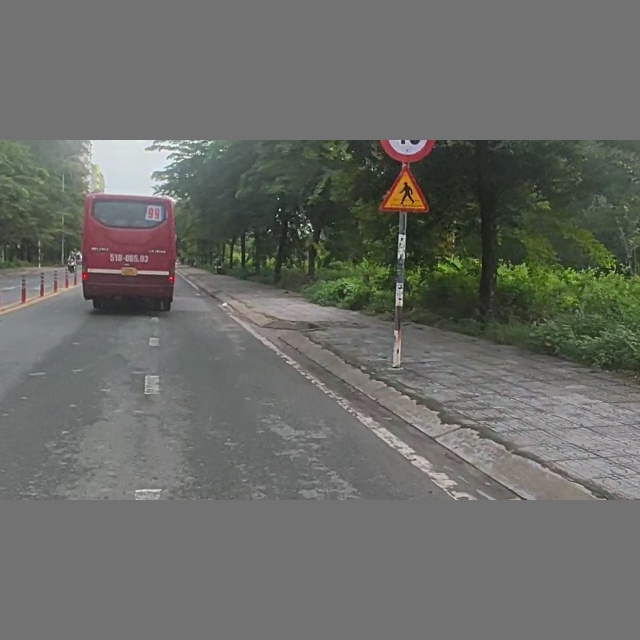W.224: (378, 167, 435, 210)
